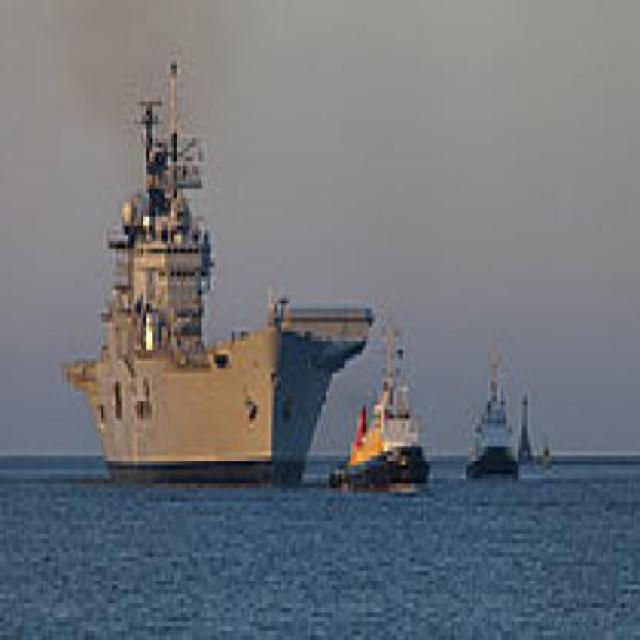warship2: (50, 70, 343, 521)
